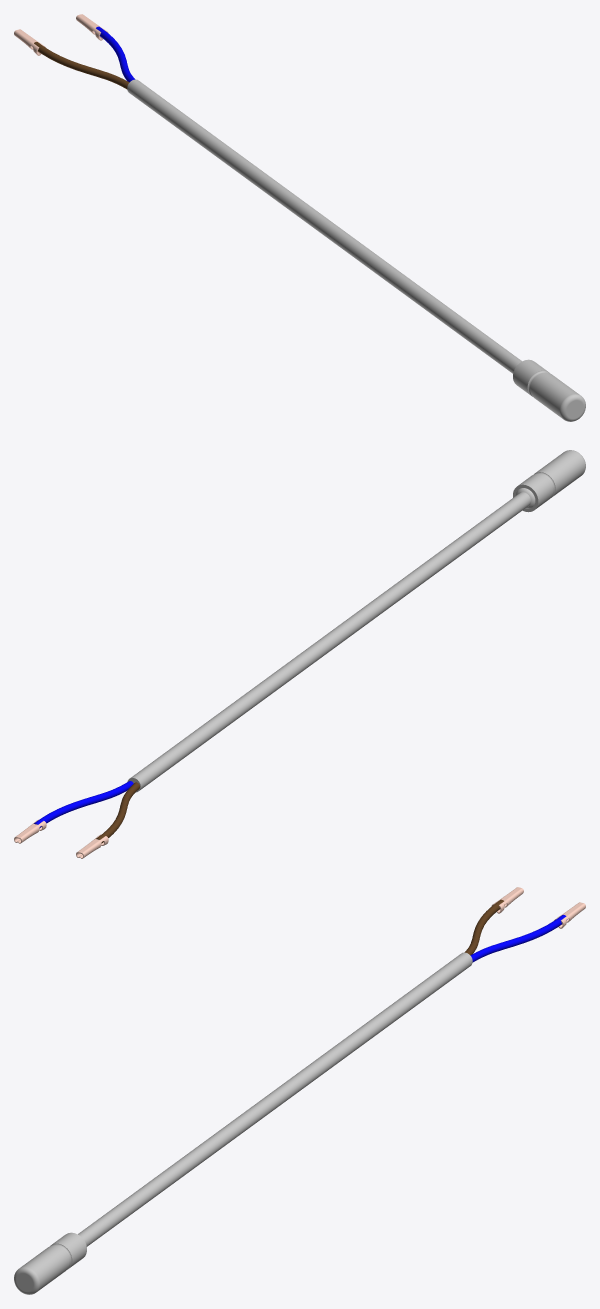
Rendered from NPNA.glb.
3 views of the same model, one above another, from view 1: azimuth 30°, elevation 25°; view 2: azimuth 150°, elevation 25°; view 3: azimuth 330°, elevation 25° (orthographic).
Visible parts, largest first — view 1: brep_7, brep_2, brep_3; view 2: brep_7, brep_2, brep_5, brep_3; view 3: brep_7, brep_2, brep_5.
Part boxes in pixels (<box>): brep_7: <box>127,79,521,373</box>; brep_2: <box>513,359,585,421</box>; brep_3: <box>32,42,129,89</box>; brep_7: <box>127,492,530,792</box>; brep_2: <box>513,450,585,512</box>; brep_5: <box>34,781,133,828</box>; brep_3: <box>96,782,140,843</box>; brep_7: <box>78,952,472,1246</box>; brep_2: <box>14,1232,86,1294</box>; brep_5: <box>470,914,567,962</box>.
Bounding box in the file's own units: 0.0169 × 0.006 × 0.2132.
